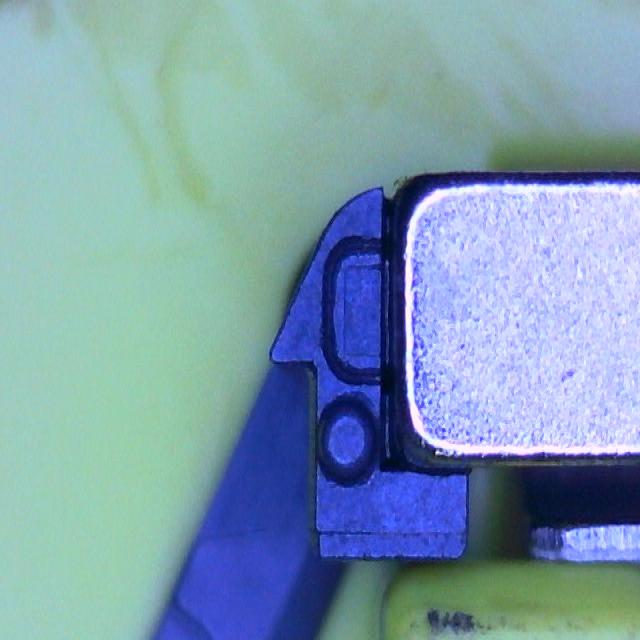lacking: (320, 234, 393, 388)
